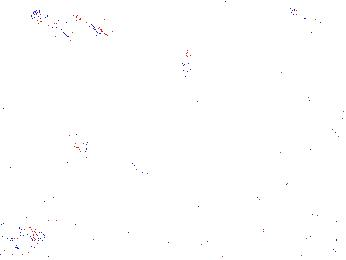X-ray fish: (176, 45, 195, 79)
glassfish: (58, 128, 166, 198)
red belly glassfish: (294, 8, 321, 36)
redtail glassfish: (30, 7, 106, 44), (260, 54, 346, 80), (138, 1, 241, 19)
